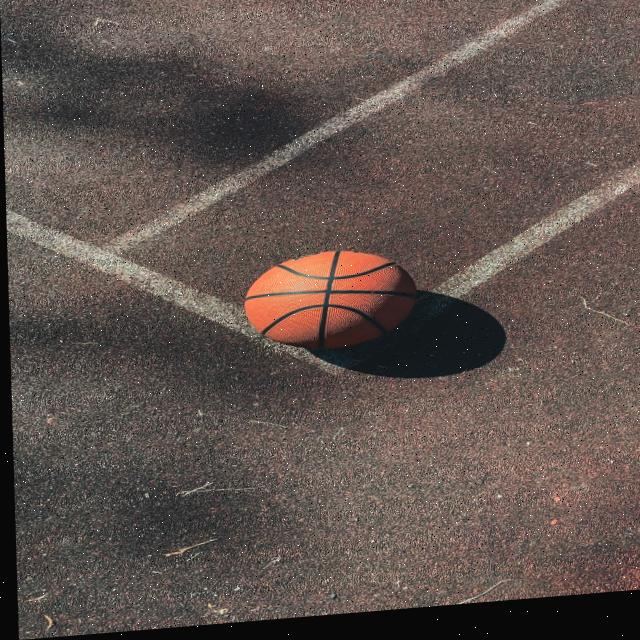Basketball: (243, 243, 420, 356)
